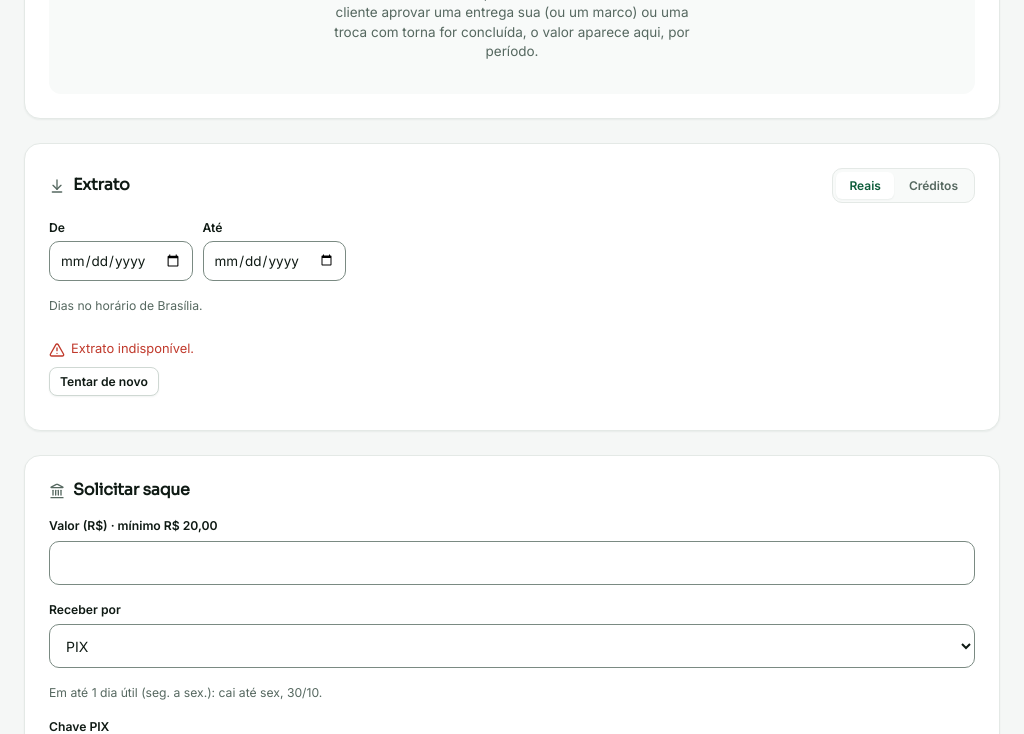
Test: CarteiraView: saldos e estados › falha no extrato: mostra o erro só ali e "Tentar de novo" busca outra vez
The image size is (1024, 734).
(page scrolled)
expect the message shows "Extrato indisponível.": met, box 71,341 -> 194,356
Click the button "Tentar de novo" at (104, 382), box 49,367 -> 159,396
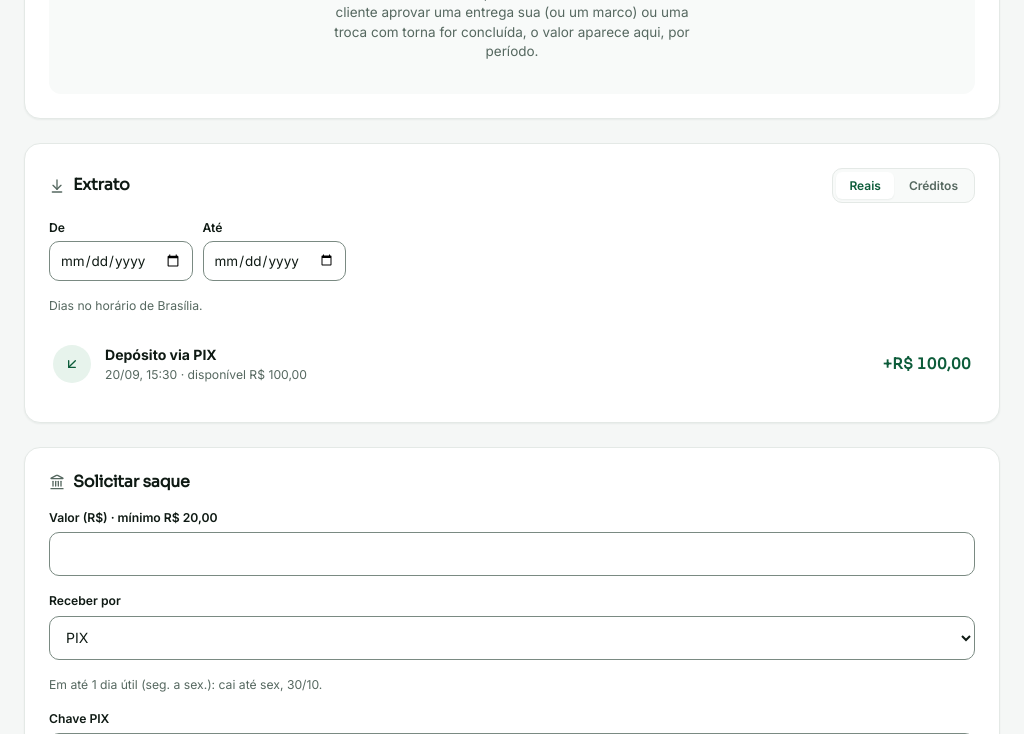
expect the text "Depósito via PIX" is shown: met, box 105,346 -> 217,363
